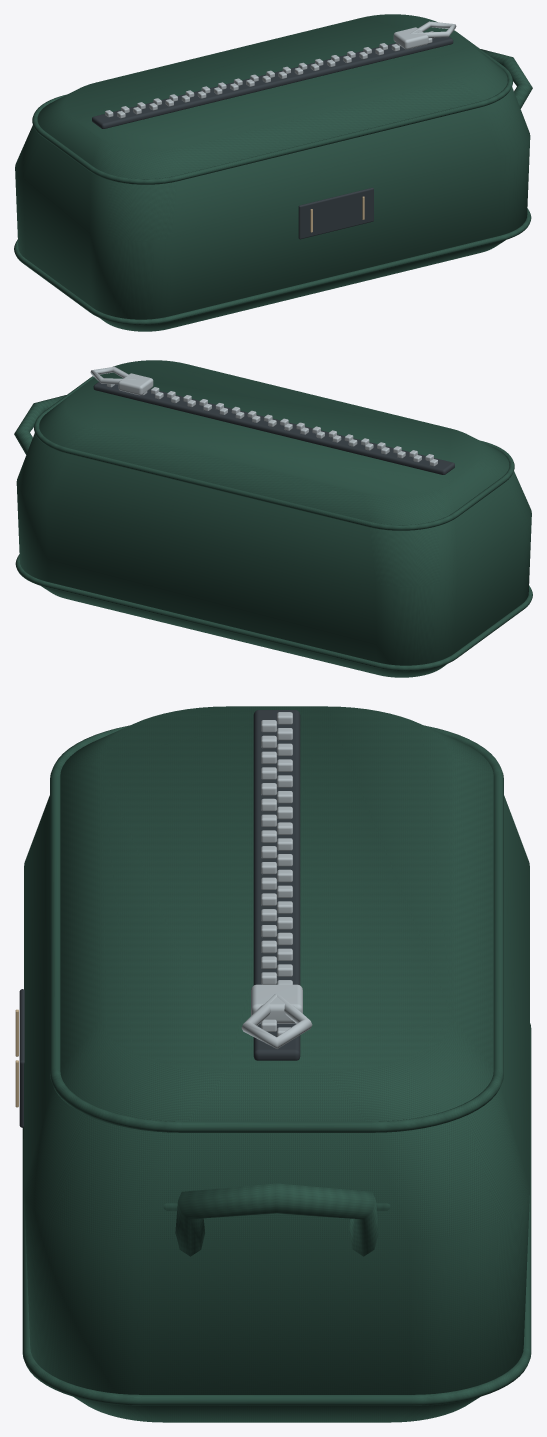
The model's file is ToiletryPouch_cm.glb.
The picture shows the model from 3 angles, top to bottom: view 1: azimuth 30°, elevation 25°; view 2: azimuth 150°, elevation 25°; view 3: azimuth 270°, elevation 25°; orthographic projection. The views are drawn at different scales.
Visible parts, largest first — view 1: Pouch_SewnSoftBody, Pouch_ZipperTape, Pouch_PanelBinding.001, Pouch_PanelBinding, Pouch_WovenLabel, Pouch_SideLoop, Pouch_ZipperSlider, Pouch_ZipperPull; view 2: Pouch_SewnSoftBody, Pouch_ZipperTape, Pouch_PanelBinding.001, Pouch_PanelBinding, Pouch_SideLoop, Pouch_ZipperSlider, Pouch_ZipperPull; view 3: Pouch_SewnSoftBody, Pouch_PanelBinding.001, Pouch_PanelBinding, Pouch_ZipperTape, Pouch_SideLoop, Pouch_ZipperPull, Pouch_ZipperSlider.
Boxes of the visible parts, left/top/right/bottom form: Pouch_SewnSoftBody: left=15, top=14, right=530, bottom=331; Pouch_ZipperTape: left=92, top=36, right=453, bottom=128; Pouch_PanelBinding.001: left=32, top=30, right=512, bottom=184; Pouch_PanelBinding: left=14, top=208, right=531, bottom=325; Pouch_WovenLabel: left=298, top=187, right=373, bottom=239; Pouch_SideLoop: left=480, top=49, right=532, bottom=108; Pouch_ZipperSlider: left=393, top=27, right=428, bottom=49; Pouch_ZipperPull: left=410, top=21, right=456, bottom=37; Pouch_SewnSoftBody: left=16, top=360, right=531, bottom=677; Pouch_ZipperTape: left=93, top=377, right=454, bottom=474; Pouch_PanelBinding.001: left=34, top=376, right=514, bottom=530; Pouch_PanelBinding: left=15, top=554, right=532, bottom=671; Pouch_SideLoop: left=14, top=395, right=66, bottom=454; Pouch_ZipperSlider: left=118, top=373, right=153, bottom=395; Pouch_ZipperPull: left=90, top=366, right=135, bottom=384; Pouch_SewnSoftBody: left=24, top=706, right=529, bottom=1422; Pouch_PanelBinding.001: left=50, top=725, right=503, bottom=1132; Pouch_PanelBinding: left=22, top=1023, right=531, bottom=1405; Pouch_ZipperTape: left=253, top=710, right=300, bottom=1060; Pouch_SideLoop: left=175, top=1183, right=378, bottom=1256; Pouch_ZipperPull: left=241, top=993, right=312, bottom=1048; Pouch_ZipperSlider: left=251, top=984, right=302, bottom=1023.
Size of the model in its own units: 7.98 by 3.09 by 3.87.
Materials: 4 (1 with a texture image).
